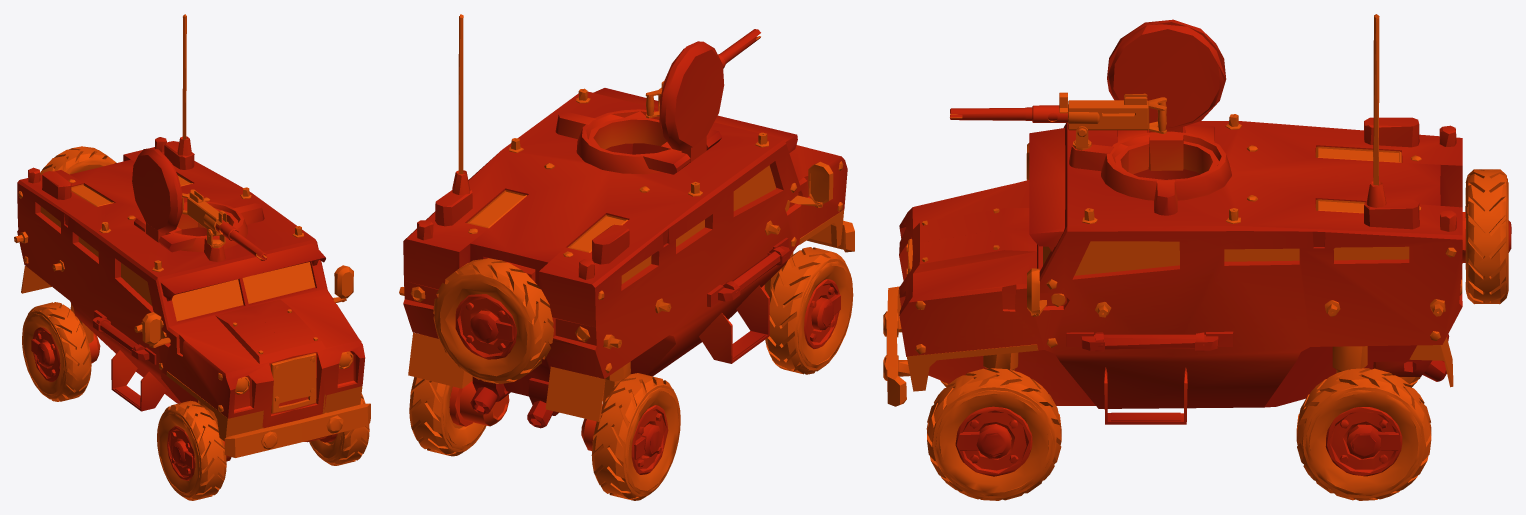
Rendered from WbReconRigged.fbx.
3 renders of one model, left to right at view 1: azimuth 30°, elevation 25°; view 2: azimuth 150°, elevation 25°; view 3: azimuth 270°, elevation 25°, orthographic. The views are drawn at different scales.
Visible parts, largest first — view 1: Body.003, Wheel.029, WheelSteeringGroupA.001, BarrelMachineGun, WheelSteeringGroupA; view 2: Body.003, Wheel.029, WheelSteeringGroupA.001, Wheel.028, BarrelMachineGun; view 3: Body.003, Wheel.028, WheelSteeringGroupA, BarrelMachineGun.
Part boxes in pixels (bbox=[...]): Body.003: bbox=[14, 14, 370, 457]; Wheel.029: bbox=[22, 302, 100, 401]; WheelSteeringGroupA.001: bbox=[157, 400, 231, 500]; BarrelMachineGun: bbox=[182, 189, 267, 260]; WheelSteeringGroupA: bbox=[304, 393, 369, 465]; Body.003: bbox=[399, 14, 854, 428]; Wheel.029: bbox=[581, 373, 680, 500]; WheelSteeringGroupA.001: bbox=[761, 247, 853, 374]; Wheel.028: bbox=[409, 377, 509, 456]; BarrelMachineGun: bbox=[645, 29, 760, 118]; Body.003: bbox=[883, 14, 1511, 424]; Wheel.028: bbox=[1296, 368, 1431, 500]; WheelSteeringGroupA: bbox=[926, 368, 1061, 500]; BarrelMachineGun: bbox=[950, 92, 1166, 136].
Size of the model in its own units: 0.4006 by 0.6351 by 0.7615.
